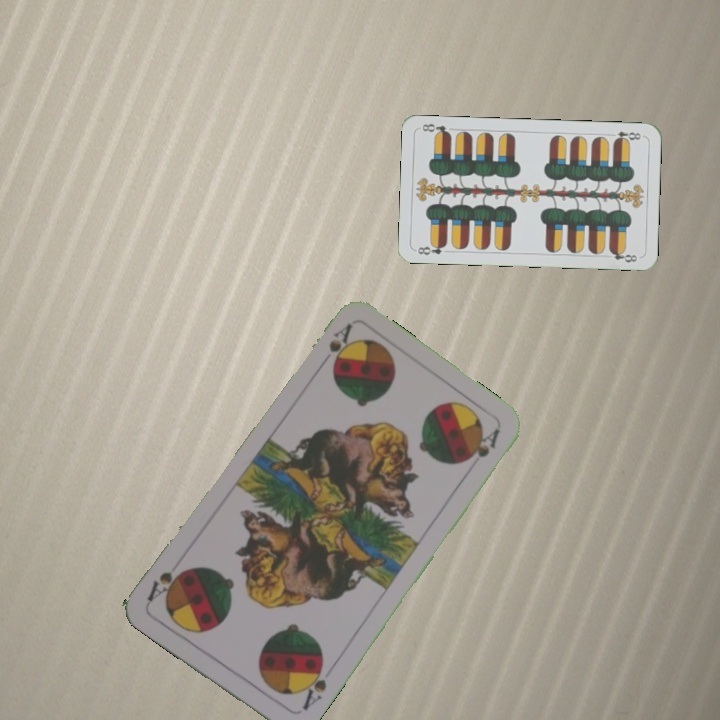E8: (605, 127, 643, 145), (414, 239, 449, 258)
SA: (314, 320, 355, 372), (296, 658, 330, 713)
